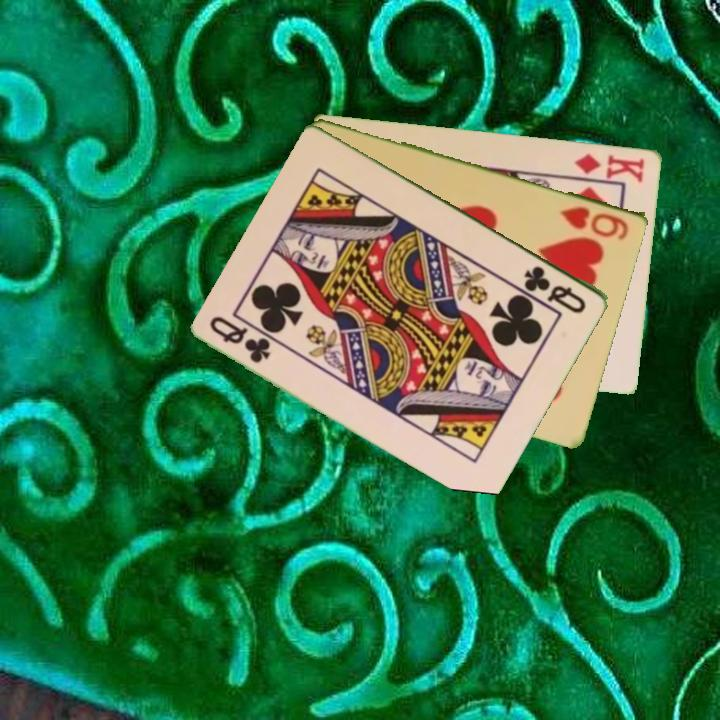6h: (557, 202, 632, 243)
Kd: (571, 149, 648, 185)
Qc: (520, 262, 590, 316), (206, 312, 274, 366)
